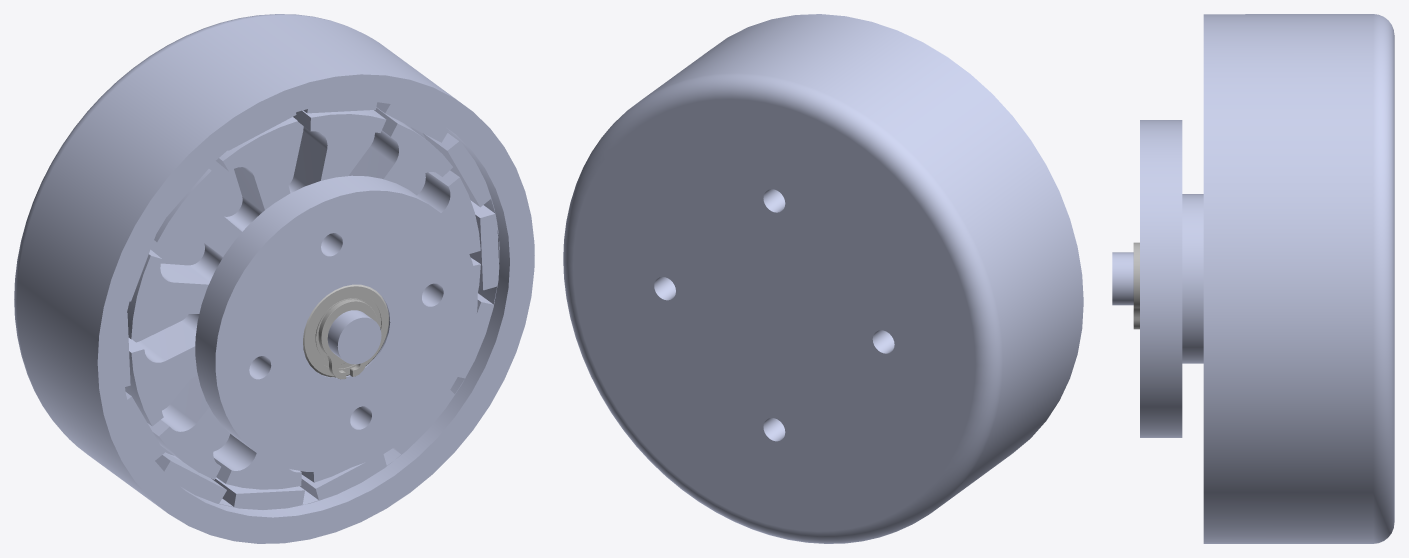
File: generator-model.glb
3 renders of one model, left to right at view 1: azimuth 30°, elevation 25°; view 2: azimuth 150°, elevation 25°; view 3: azimuth 270°, elevation 25°, orthographic. The views are drawn at different scales.
Visible parts, largest first — view 1: Rotor NRE Rev D shrink fit-1, Hub NRE RevD-1, SkewedStator (1)-1, 7804K106_Stainless Steel Ball Bearing-2, shaft NRE Rev D shink fit-1, Magnet-14, Magnet-1, Magnet-5, Magnet-4, Magnet-6, 98541A113_External Retaining Ring-1, Magnet-13 (+5 smaller); view 2: Rotor NRE Rev D shrink fit-1, shaft NRE Rev D shink fit-1; view 3: Rotor NRE Rev D shrink fit-1, Hub NRE RevD-1, shaft NRE Rev D shink fit-1, 98541A113_External Retaining Ring-1.
Boxes of the visible parts, left/top/right/bottom form: Rotor NRE Rev D shrink fit-1: left=14, top=14, right=534, bottom=543; Hub NRE RevD-1: left=195, top=175, right=477, bottom=472; SkewedStator (1)-1: left=125, top=107, right=480, bottom=489; 7804K106_Stainless Steel Ball Bearing-2: left=303, top=284, right=389, bottom=377; shaft NRE Rev D shink fit-1: left=327, top=310, right=381, bottom=364; Magnet-14: left=422, top=133, right=490, bottom=207; Magnet-1: left=469, top=200, right=499, bottom=290; Magnet-5: left=211, top=477, right=304, bottom=509; Magnet-4: left=300, top=454, right=386, bottom=500; Magnet-6: left=155, top=452, right=226, bottom=503; 98541A113_External Retaining Ring-1: left=318, top=299, right=377, bottom=379; Magnet-13: left=376, top=102, right=448, bottom=142; Rotor NRE Rev D shrink fit-1: left=563, top=14, right=1083, bottom=543; shaft NRE Rev D shink fit-1: left=752, top=291, right=796, bottom=338; Rotor NRE Rev D shrink fit-1: left=1203, top=14, right=1394, bottom=543; Hub NRE RevD-1: left=1140, top=120, right=1203, bottom=437; shaft NRE Rev D shink fit-1: left=1112, top=252, right=1133, bottom=305; 98541A113_External Retaining Ring-1: left=1133, top=242, right=1139, bottom=329.
Bounding box in the file's own units: 0.05 × 0.05 × 0.0266.
